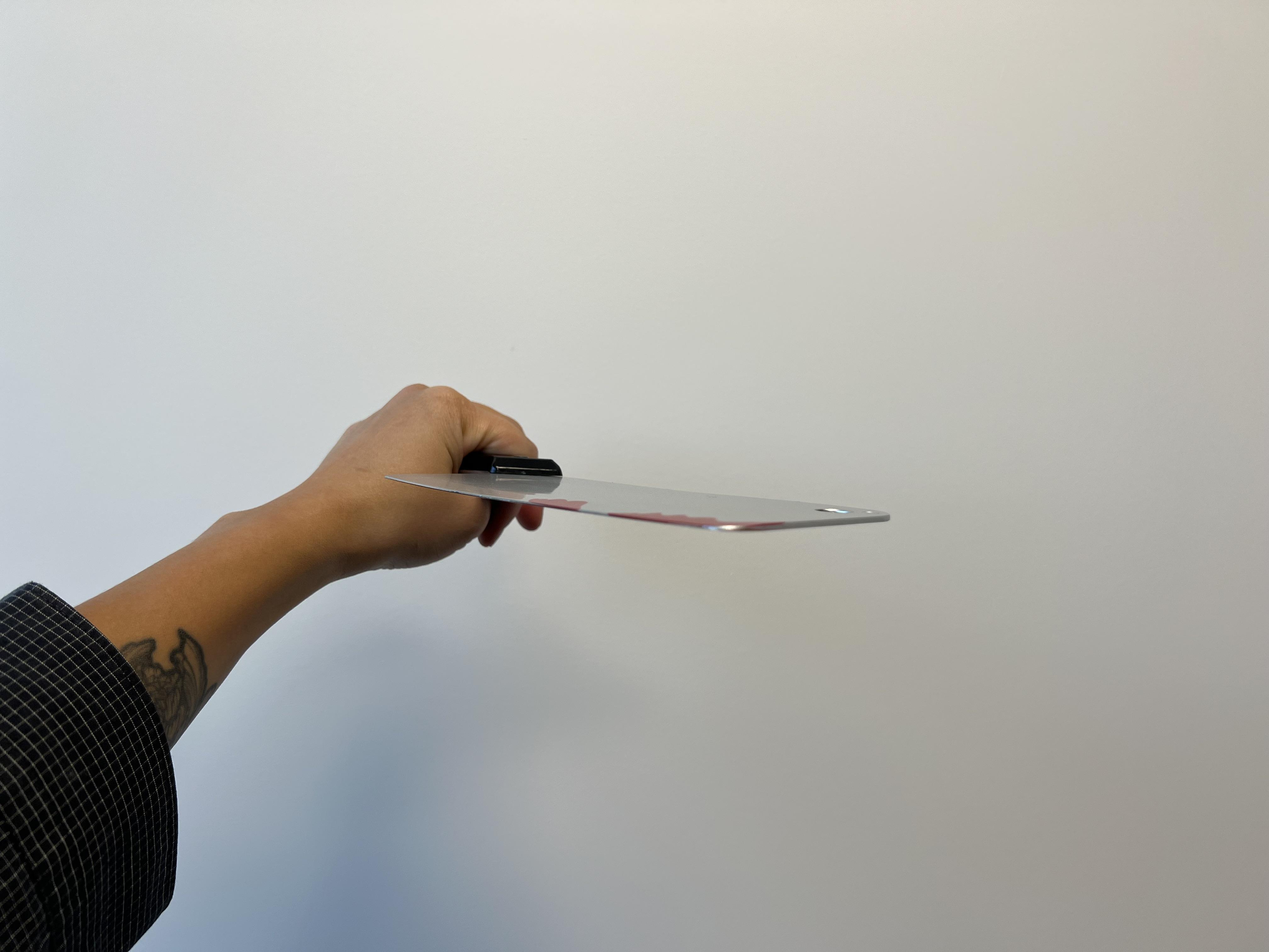Knife: (0, 384, 547, 952), (330, 378, 552, 577), (391, 461, 889, 539)
